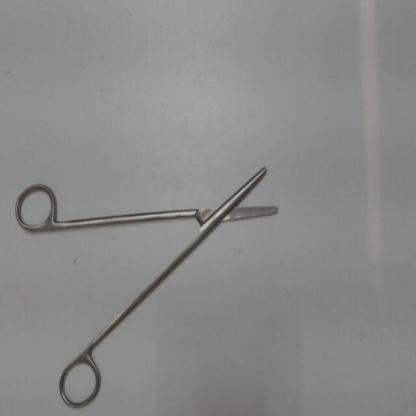9 Metzenbaum Scissors: (12, 158, 280, 414)
